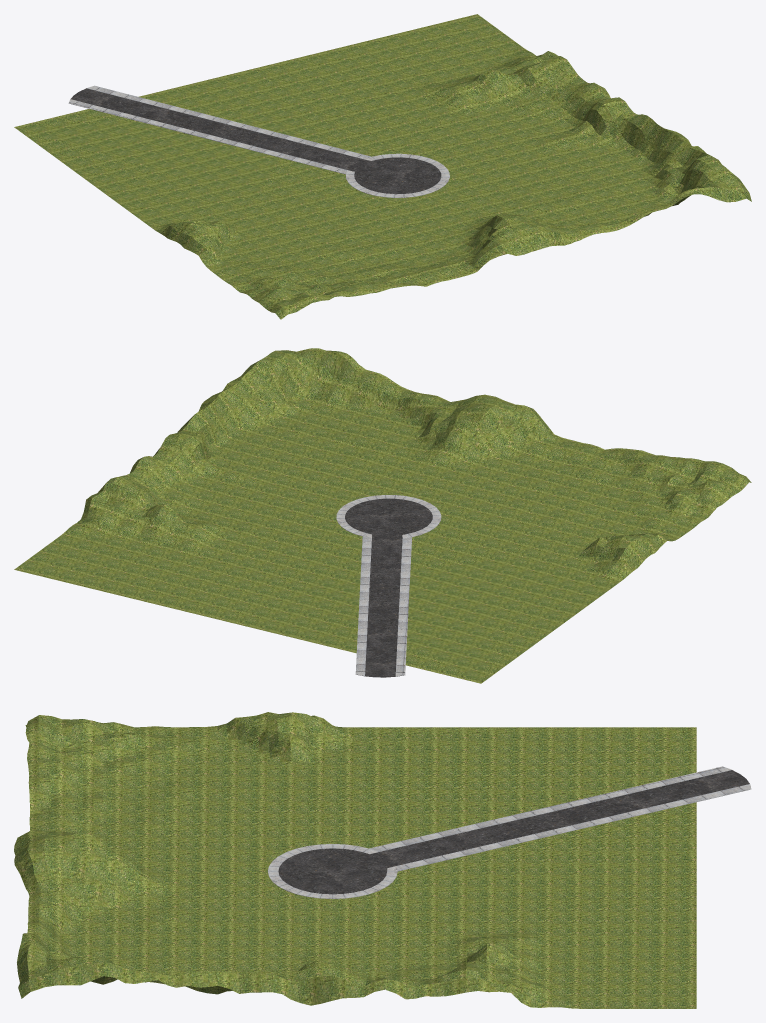
File: culdesac.glb
3 views of the same model, one above another, from view 1: azimuth 30°, elevation 25°; view 2: azimuth 150°, elevation 25°; view 3: azimuth 270°, elevation 25° (orthographic). The views are drawn at different scales.
Parts seen in each view (by area): view 1: Ground, Street, Sidewalk, SidewalkEdges; view 2: Ground, Street, Sidewalk; view 3: Ground, Street, Sidewalk, SidewalkEdges.
Boxes of the visible parts, box(x1,y1,x2,y2) form: Ground: box(14, 14, 751, 319); Street: box(71, 88, 441, 194); Sidewalk: box(69, 85, 449, 197); SidewalkEdges: box(69, 88, 448, 197); Ground: box(14, 348, 751, 683); Street: box(345, 498, 432, 677); Sidewalk: box(336, 495, 441, 676); Ground: box(14, 712, 696, 1008); Street: box(278, 770, 749, 894); Sidewalk: box(268, 766, 751, 898); SidewalkEdges: box(269, 770, 750, 898).
Size of the model in its own units: 303 by 21.73 by 328.
4 materials, 3 textured.
